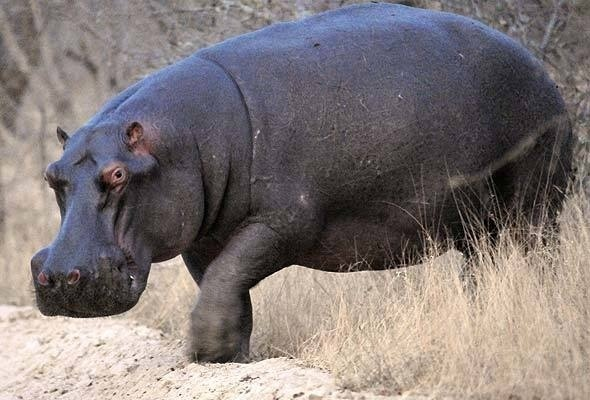hipopotamo: (25, 1, 575, 373)
